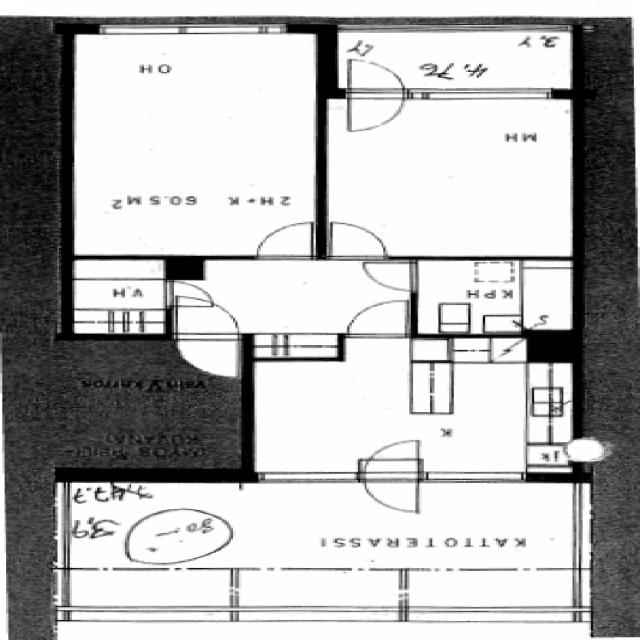door: (352, 439, 428, 518), (339, 55, 408, 133), (341, 296, 413, 339), (170, 299, 246, 339), (324, 219, 393, 263), (251, 218, 319, 262), (357, 259, 422, 294), (160, 278, 216, 312)
window: (87, 18, 297, 42), (54, 602, 230, 624), (405, 604, 574, 626), (405, 81, 555, 105), (238, 602, 394, 623), (564, 479, 598, 569), (245, 465, 364, 490), (414, 465, 536, 488)
zone: (65, 27, 328, 261), (319, 93, 584, 259), (17, 335, 245, 470), (404, 339, 576, 477), (413, 258, 577, 336), (64, 257, 171, 337)
